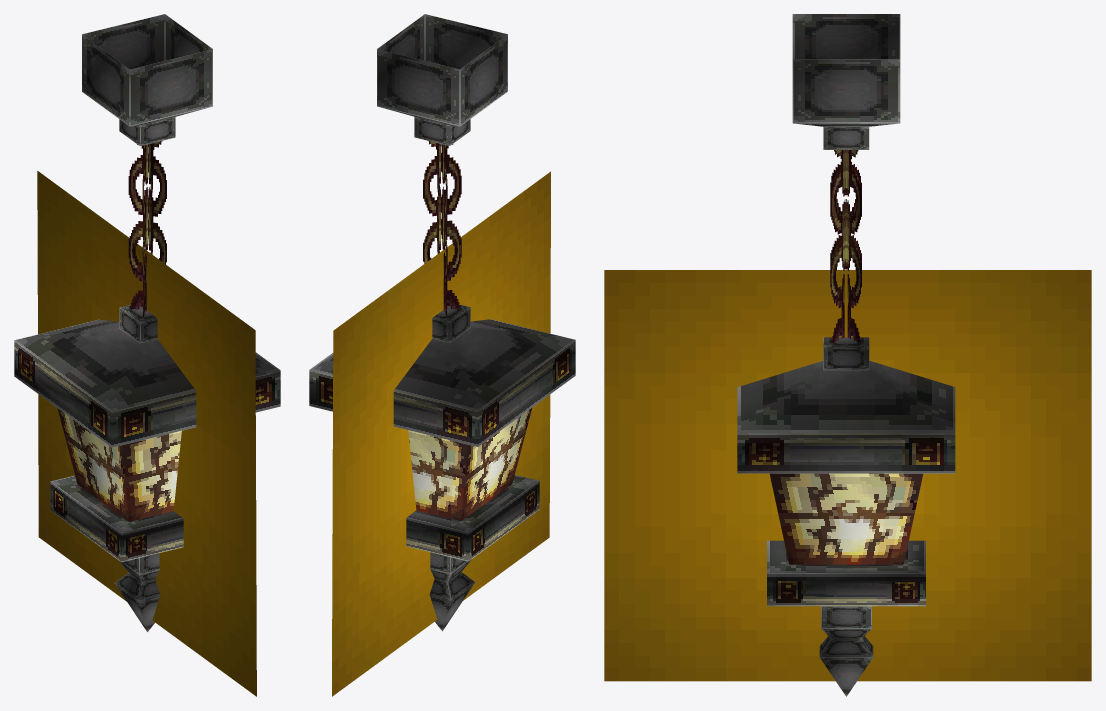
File: generalhanginglantern01.obj
The picture shows the model from 3 angles, left to right: view 1: azimuth 30°, elevation 25°; view 2: azimuth 150°, elevation 25°; view 3: azimuth 270°, elevation 25°; orthographic projection. The views are drawn at different scales.
Parts seen in each view (by area): view 1: 2, 1, 0; view 2: 2, 1, 0; view 3: 2, 1, 0.
Boxes of the visible parts, x1,y1,x2,y2 form: 2: (37,171,256,696); 1: (14,14,280,632); 0: (57,408,181,521); 2: (332,171,550,696); 1: (309,14,575,631); 0: (408,408,531,521); 2: (604,270,1091,681); 1: (737,14,955,696); 0: (769,473,923,564).
Size of the model in its own units: 0.7106 by 2.37 by 1.59.
Materials: 3 (3 with a texture image).
